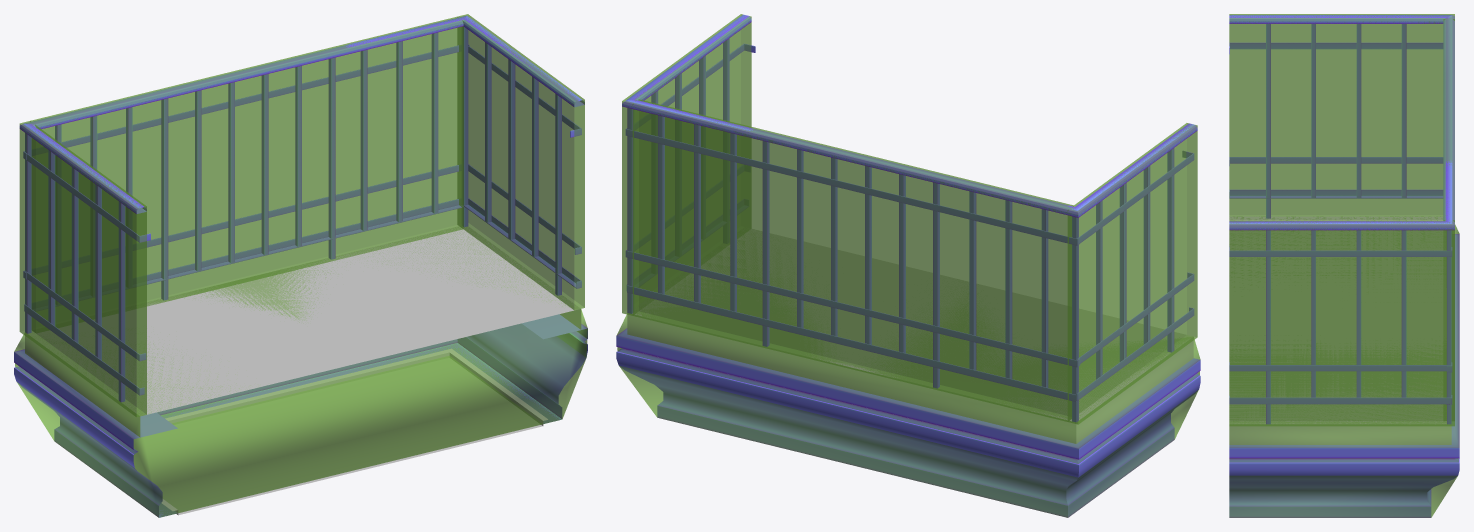
Rendered from F_Balcony_L_02.fbx.
The picture shows the model from 3 angles, left to right: view 1: azimuth 30°, elevation 25°; view 2: azimuth 150°, elevation 25°; view 3: azimuth 270°, elevation 25°; orthographic projection. The views are drawn at different scales.
Parts seen in each view (by area): view 1: F_Balcony_L_02_LOD0, F_Balcony_L_02_col_02, F_Balcony_L_02_col_04, F_Balcony_L_02_col_01, F_Balcony_L_02_col_03; view 2: F_Balcony_L_02_LOD0, F_Balcony_L_02_col_02, F_Balcony_L_02_col_04, F_Balcony_L_02_col_01, F_Balcony_L_02_col_03; view 3: F_Balcony_L_02_LOD0, F_Balcony_L_02_col_03, F_Balcony_L_02_col_01, F_Balcony_L_02_col_04, F_Balcony_L_02_col_02.
Part boxes in pixels (box(x1,y1,x2,y2)): F_Balcony_L_02_LOD0: box(14, 15, 587, 517); F_Balcony_L_02_col_02: box(30, 16, 463, 332); F_Balcony_L_02_col_04: box(14, 230, 587, 517); F_Balcony_L_02_col_01: box(19, 121, 146, 417); F_Balcony_L_02_col_03: box(457, 14, 584, 310); F_Balcony_L_02_LOD0: box(616, 14, 1200, 517); F_Balcony_L_02_col_02: box(632, 99, 1073, 421); F_Balcony_L_02_col_04: box(616, 314, 1200, 517); F_Balcony_L_02_col_01: box(1067, 123, 1197, 424); F_Balcony_L_02_col_03: box(622, 14, 751, 315); F_Balcony_L_02_LOD0: box(1229, 15, 1459, 517); F_Balcony_L_02_col_03: box(1229, 220, 1454, 426); F_Balcony_L_02_col_01: box(1229, 14, 1454, 219); F_Balcony_L_02_col_04: box(1229, 217, 1459, 517); F_Balcony_L_02_col_02: box(1443, 19, 1454, 420).
Size of what is drawn, in the model's own units: 224 by 149 by 102.
